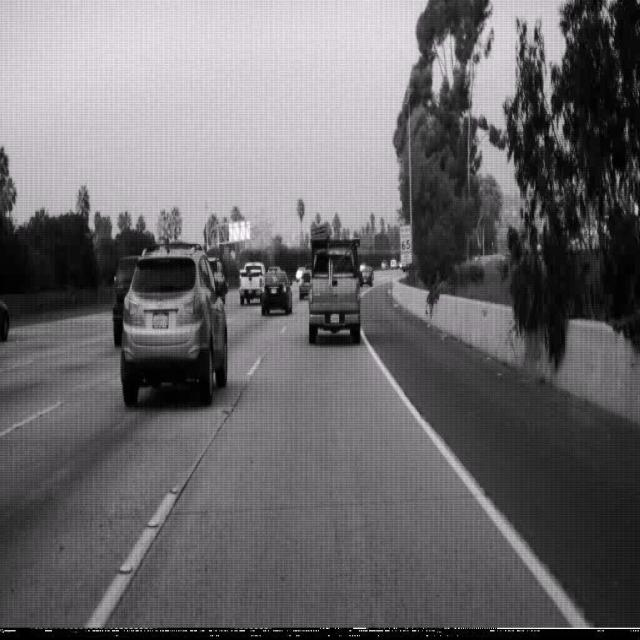speedLimit65: (398, 224, 412, 254)
